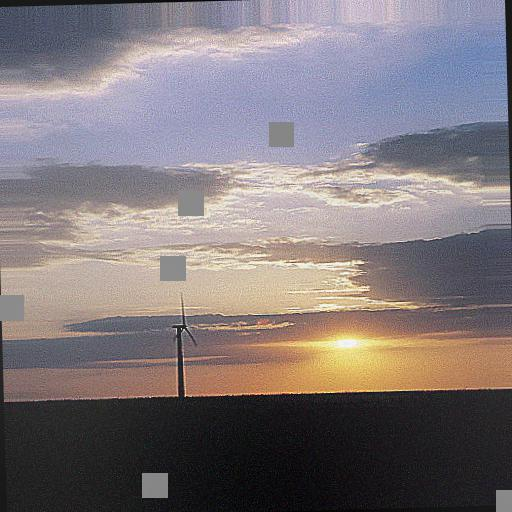wind turbine: (161, 292, 197, 401)
